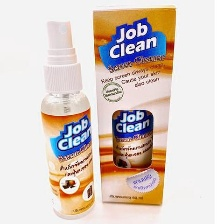book: (88, 2, 179, 210)
cleaning_solution: (37, 17, 97, 222)
